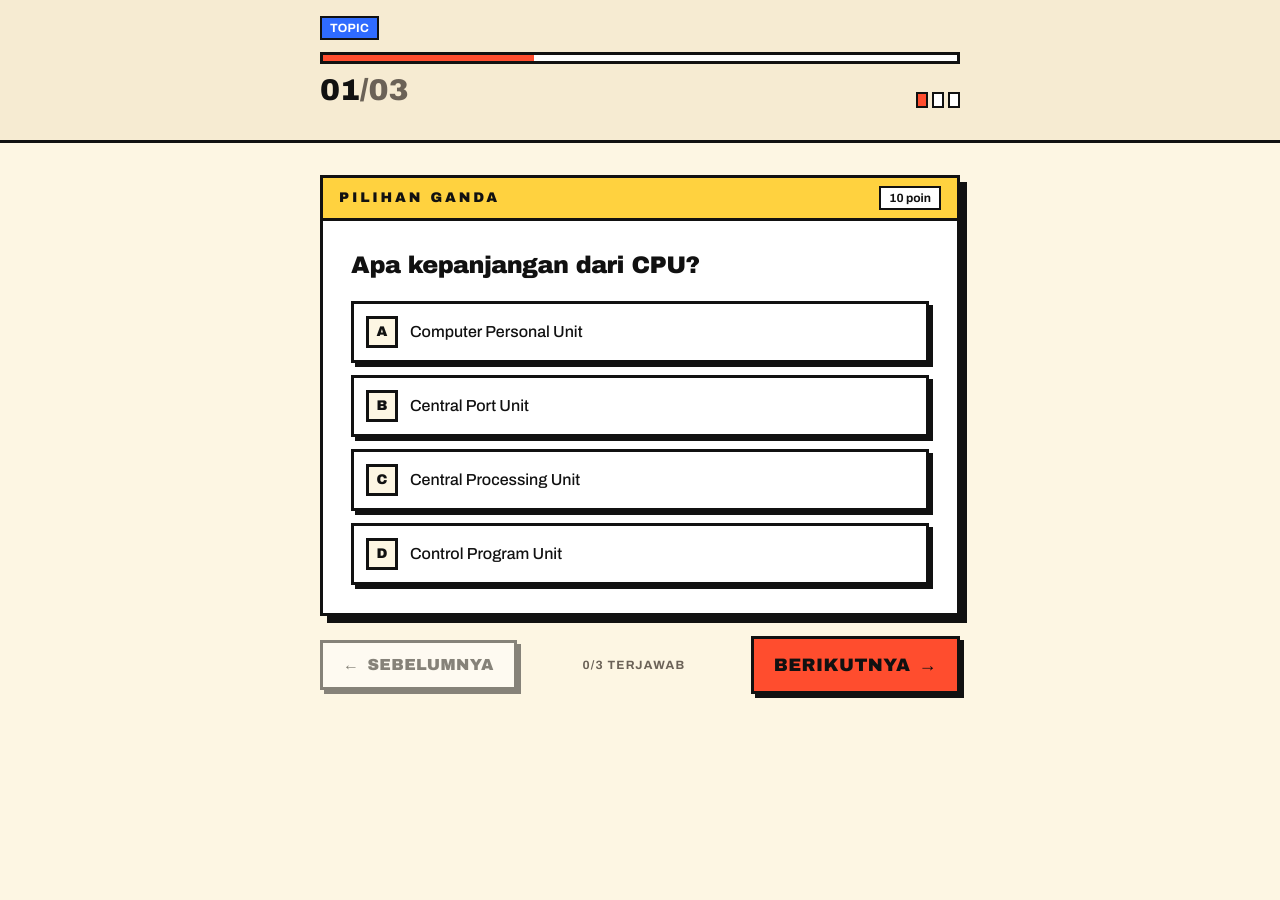
Test: QuizPlay page › allows navigating forward and backward between questions
This screenshot has width=1280, height=900.
Expected: the heading "Apa kepanjangan dari CPU?" is shown, [351,252,700,278]
Click the button "Berikutnya →" at (855, 665), box [751,636,960,694]
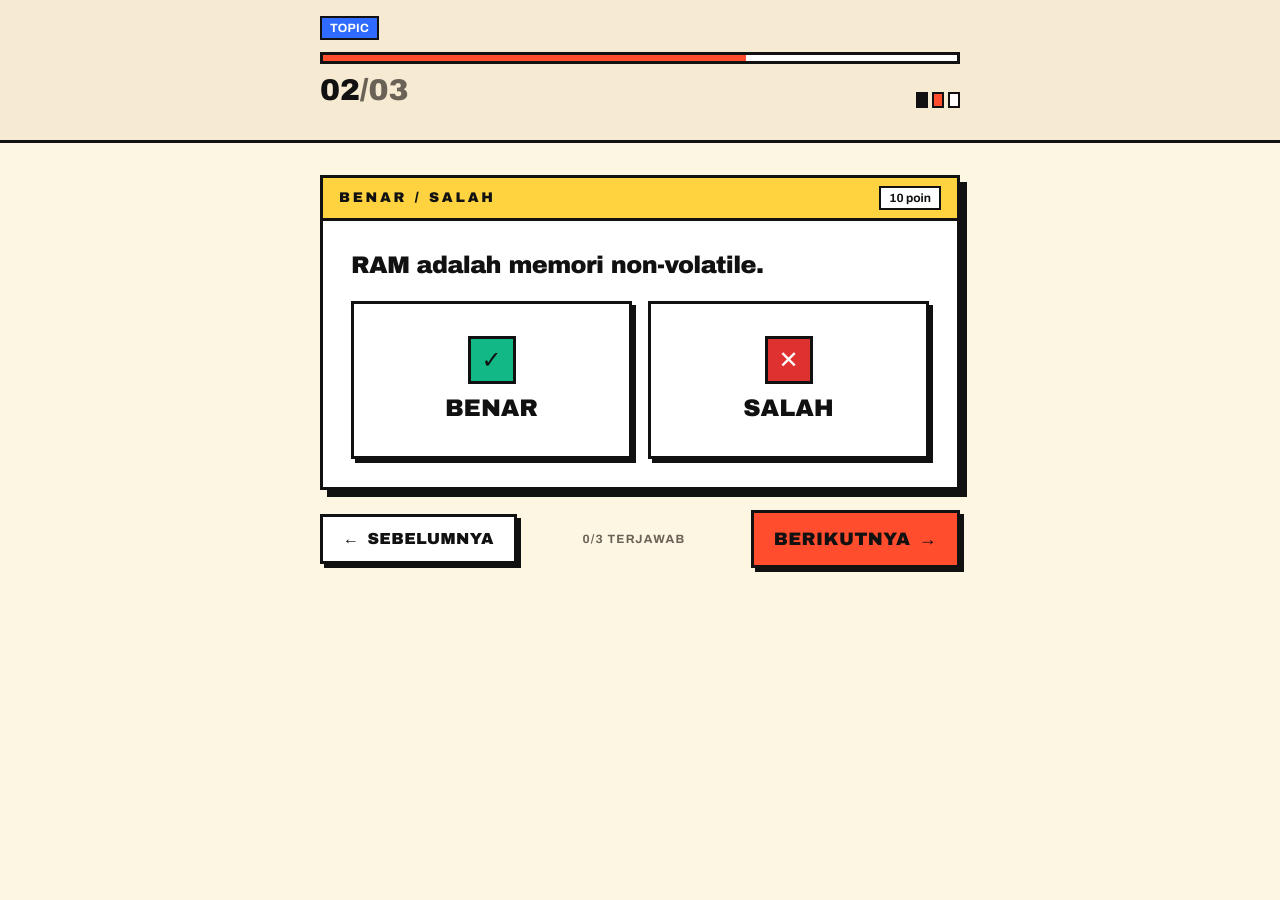
Expected: the heading "RAM adalah memori non-volatile." is shown, [351,252,763,278]
Expected: the button "← Sebelumnya" is enabled
# Click Sebelumnya
Click the button "← Sebelumnya" at (418, 539), box [320,514,517,564]
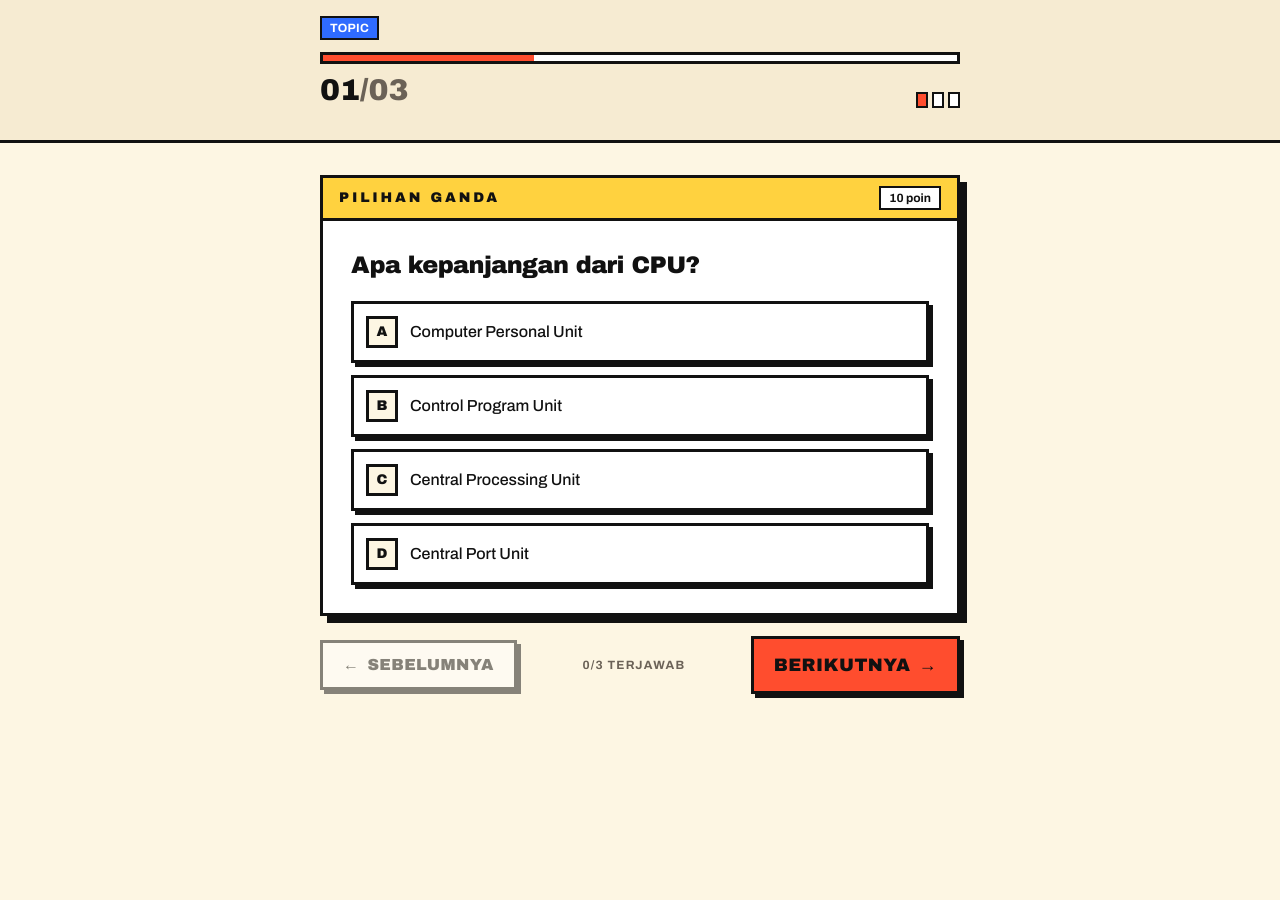
Expected: the heading "Apa kepanjangan dari CPU?" is shown, [351,252,700,278]
Expected: the button "← Sebelumnya" is disabled, [320,640,517,690]
